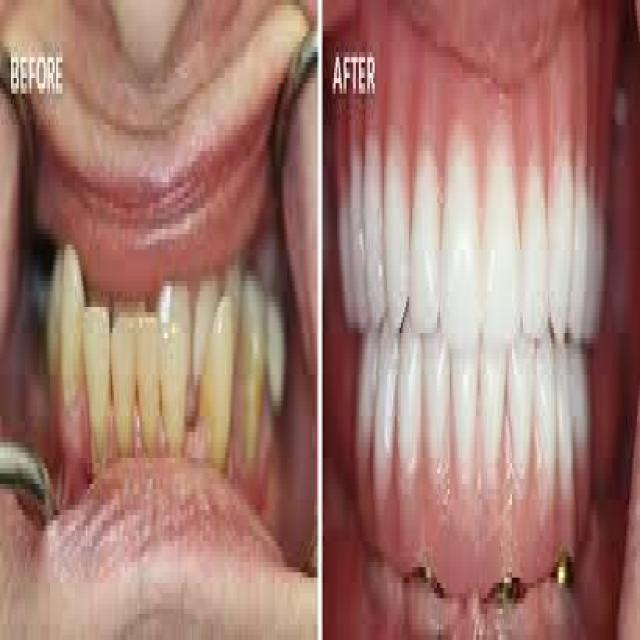tooth: (440, 88, 479, 354), (482, 94, 522, 348), (404, 99, 444, 333), (516, 140, 552, 348), (382, 104, 410, 323), (362, 104, 387, 343), (549, 120, 573, 364), (504, 318, 537, 494), (446, 323, 479, 494), (420, 312, 453, 479), (532, 307, 559, 505), (478, 322, 510, 478), (203, 312, 236, 463), (375, 312, 398, 515), (398, 312, 425, 484), (112, 297, 139, 463), (83, 312, 112, 458), (59, 255, 86, 390), (162, 322, 186, 458), (139, 317, 162, 453)
